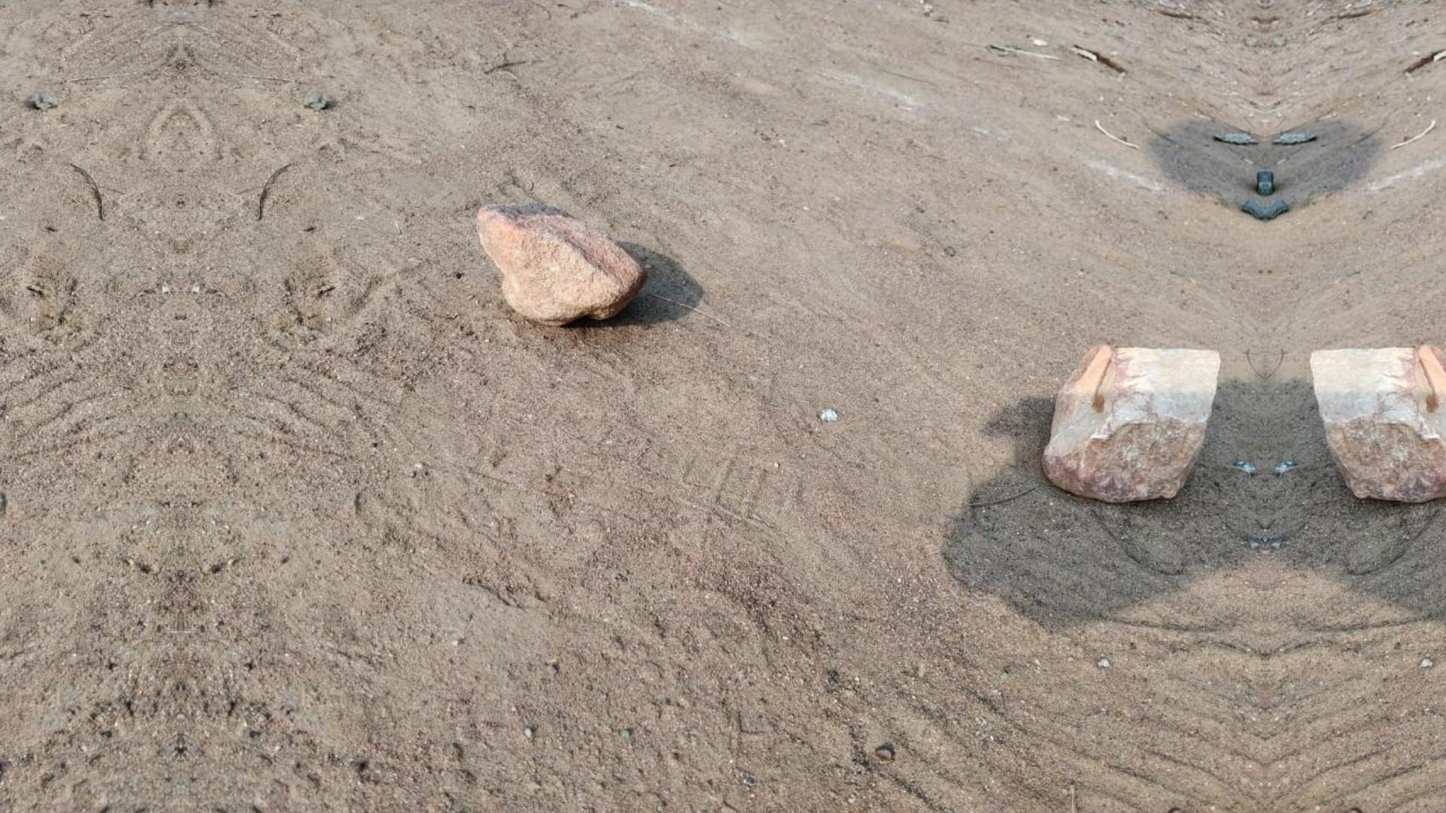rock: (1044, 344, 1219, 501), (1310, 344, 1445, 501), (477, 202, 644, 325)
